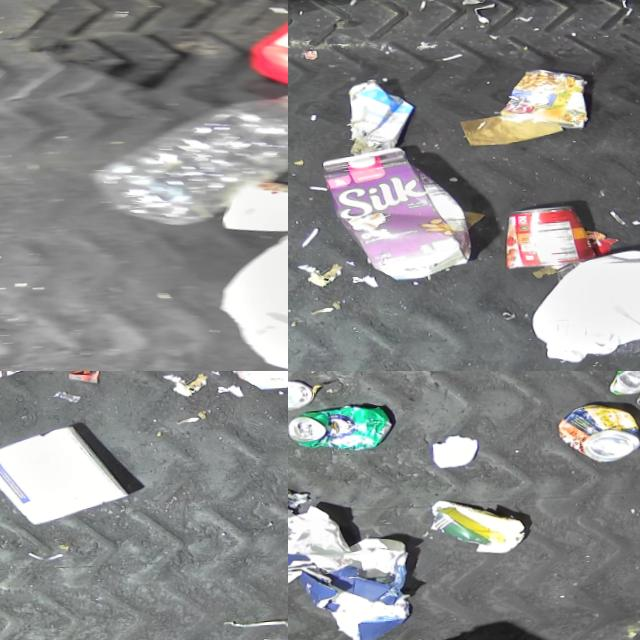can: (495, 204, 593, 271), (493, 67, 587, 136), (551, 403, 638, 465), (288, 402, 389, 454), (214, 177, 288, 239), (601, 371, 640, 397), (288, 378, 310, 410)
milk_jug: (520, 247, 640, 366), (208, 229, 288, 371)
non_white_jug: (318, 145, 474, 284), (244, 0, 288, 98)
plastic_bottle: (82, 91, 288, 230)
